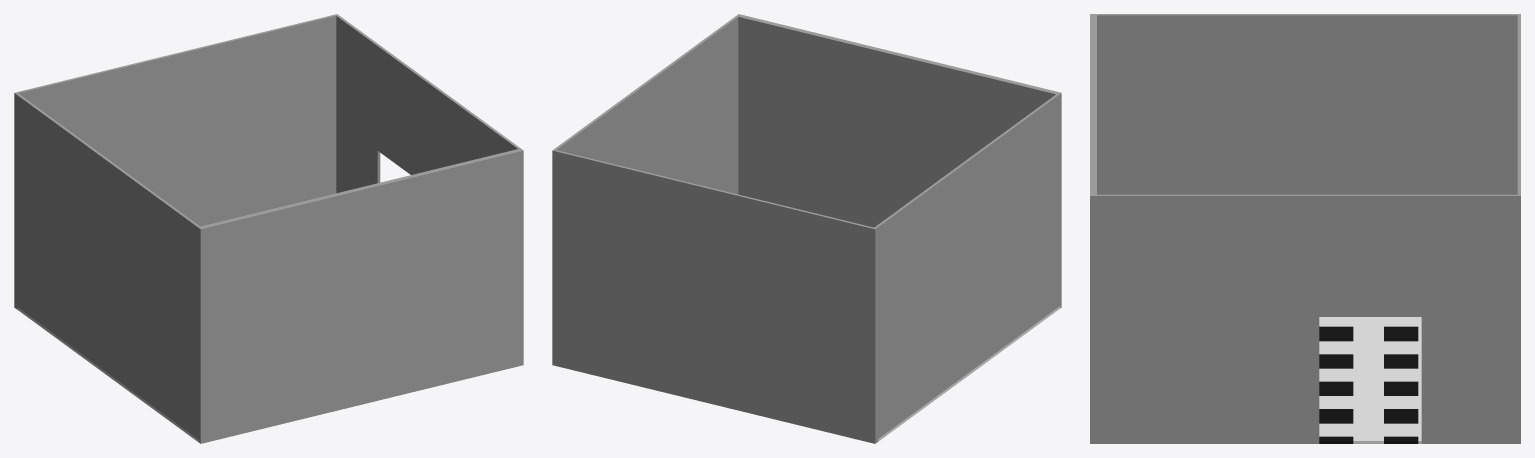
File: 4x2 second-3.obj
3 views of the same model, side by side, from view 1: azimuth 30°, elevation 25°; view 2: azimuth 150°, elevation 25°; view 3: azimuth 270°, elevation 25° (orthographic). The views are drawn at different scales.
Visible parts, largest first — view 1: 4x2 second-3; view 2: 4x2 second-3; view 3: 4x2 second-3.
Part boxes in pixels (<box>): 4x2 second-3: <box>14,14,523,443</box>; 4x2 second-3: <box>552,14,1061,443</box>; 4x2 second-3: <box>1090,14,1520,443</box>.
Bounding box in the file's own units: 126 × 80 × 126.
Materials: 1 (1 with a texture image).
